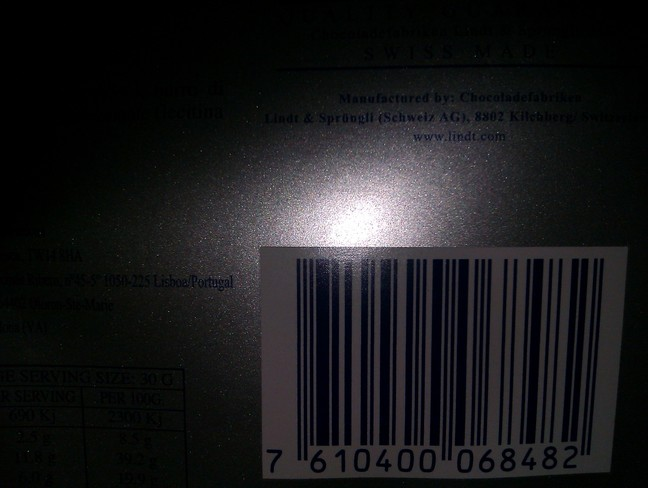barcode: (261, 246, 605, 473)
